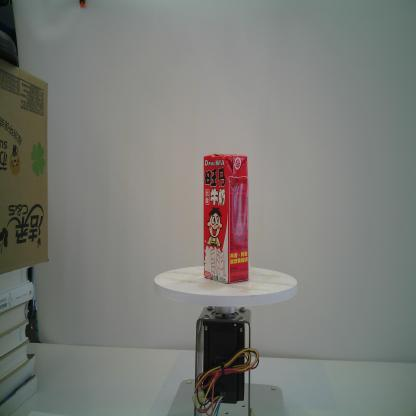Milk: (202, 149, 250, 287)
